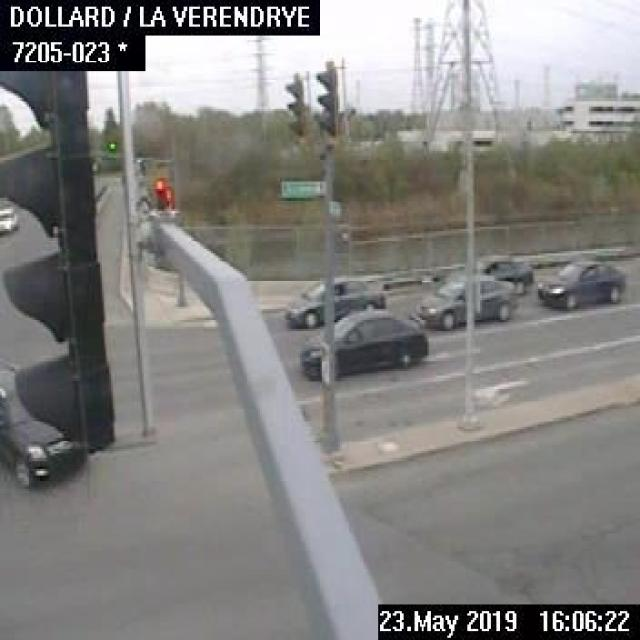vehicle: (0, 351, 91, 489), (299, 306, 428, 379), (415, 269, 521, 331), (279, 270, 392, 328), (532, 254, 627, 312), (461, 252, 535, 288), (0, 202, 18, 236)
